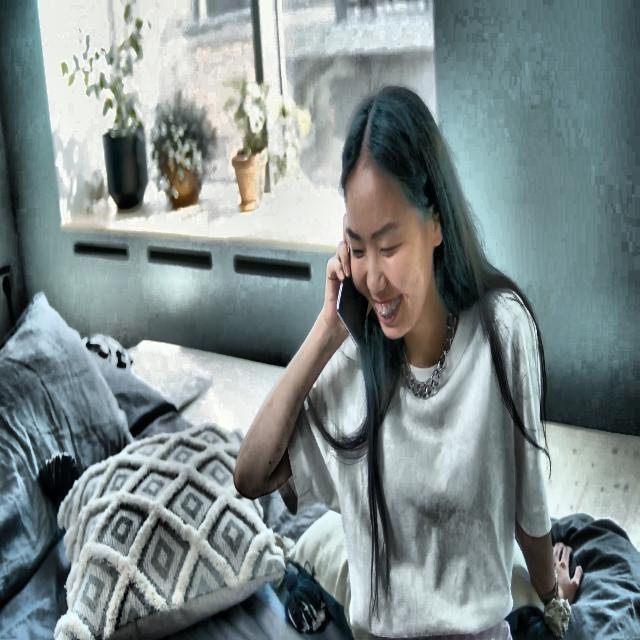Phone: (334, 241, 370, 350)
